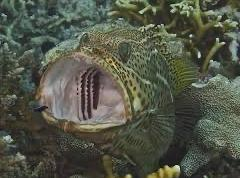Serranidae -Groupers-: (33, 17, 202, 172)
